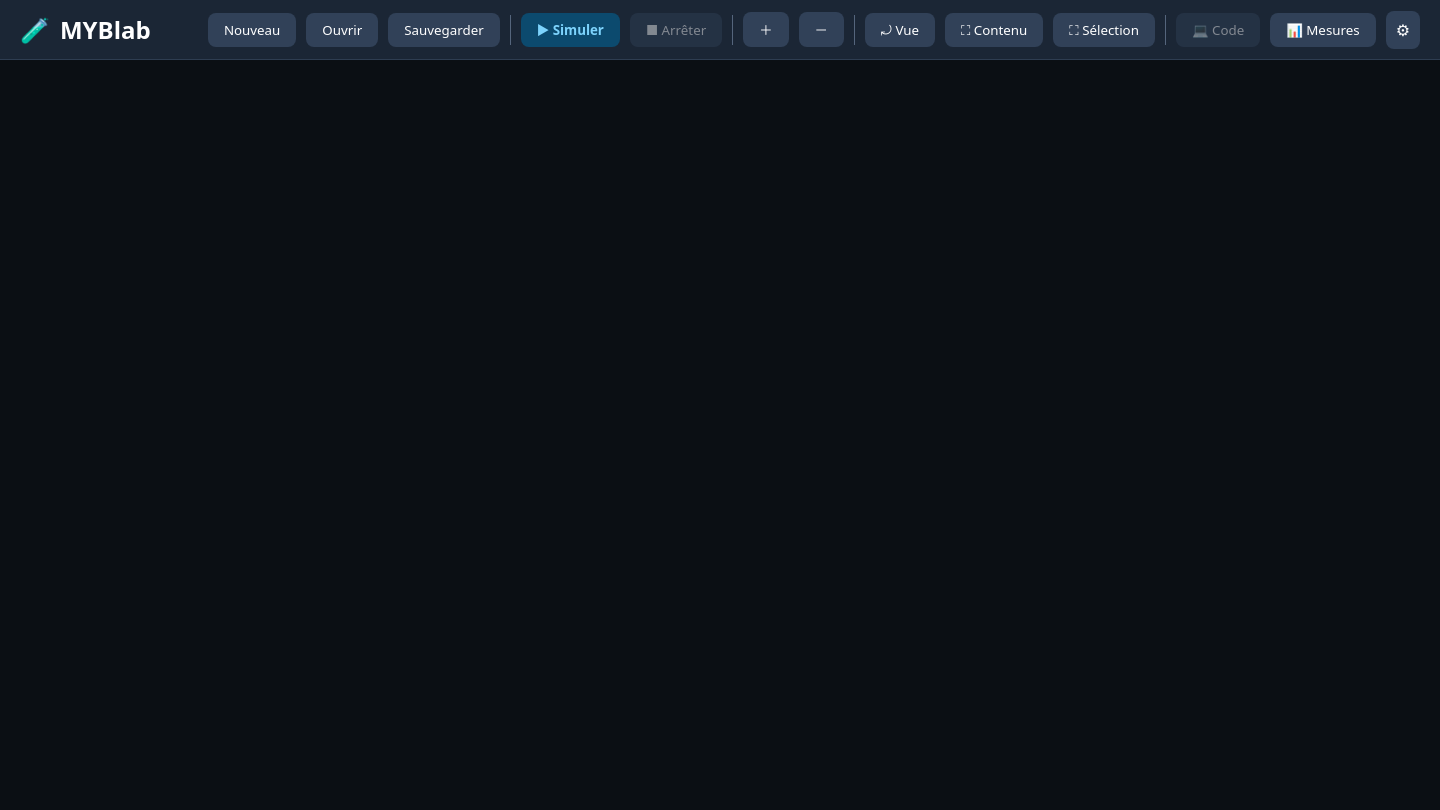
Test: MB-MEASURE-002 — TEST T4/T6 : VOLTAGE VALID (AC-07) › mesurer VOLTAGE sur RESISTOR.A dans un circuit POWER->RESISTOR->GND affiche value + V + VALID
Click the button titled "Mesures".
click(1323, 30)  # box [1270,12,1376,46]
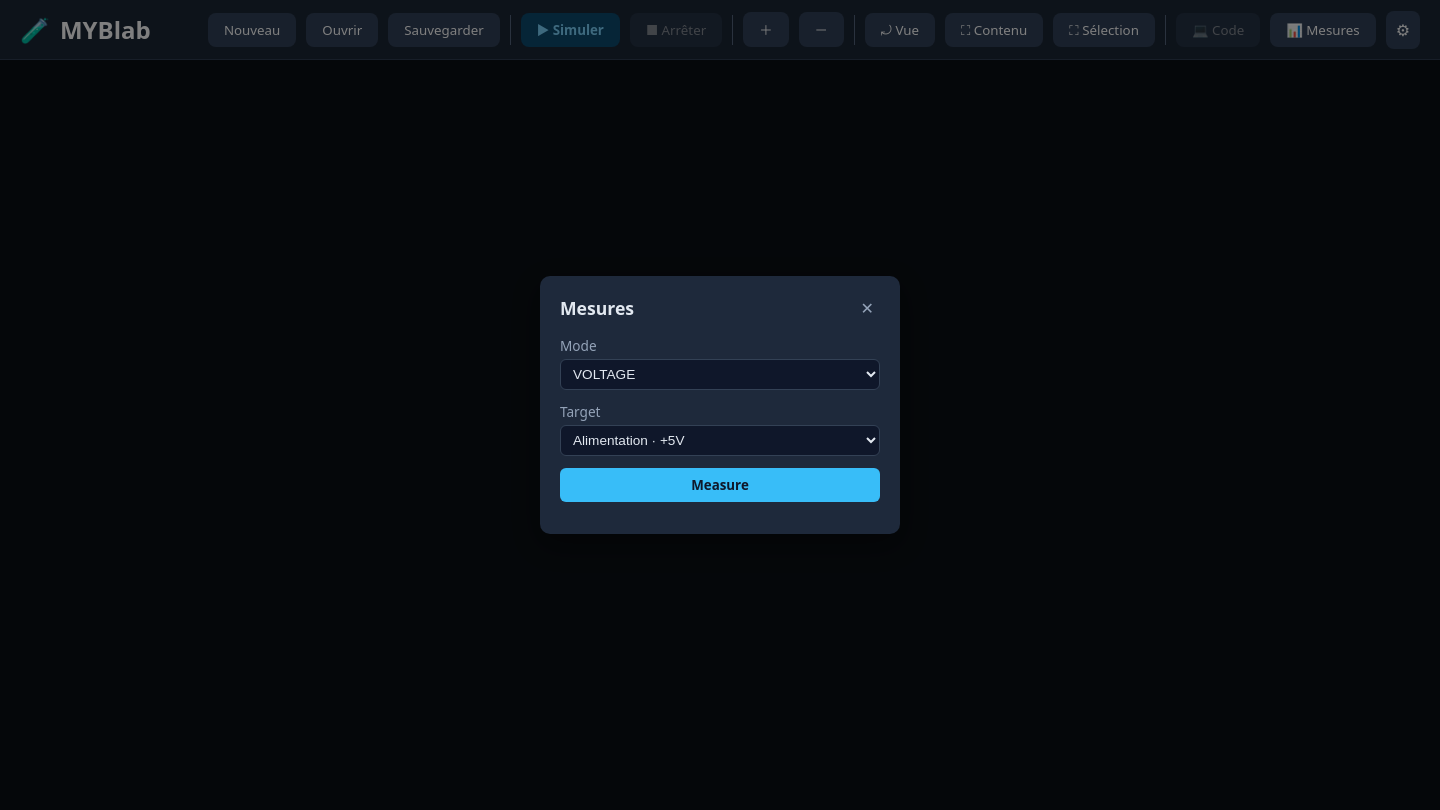
Select "VOLTAGE" in the dropdown labelled "Mode" at {"x": 720, "y": 374}, box [560,359,880,390]
Select "Résistance · A" in the dropdown labelled "Target" at {"x": 720, "y": 440}, box [560,425,880,456]
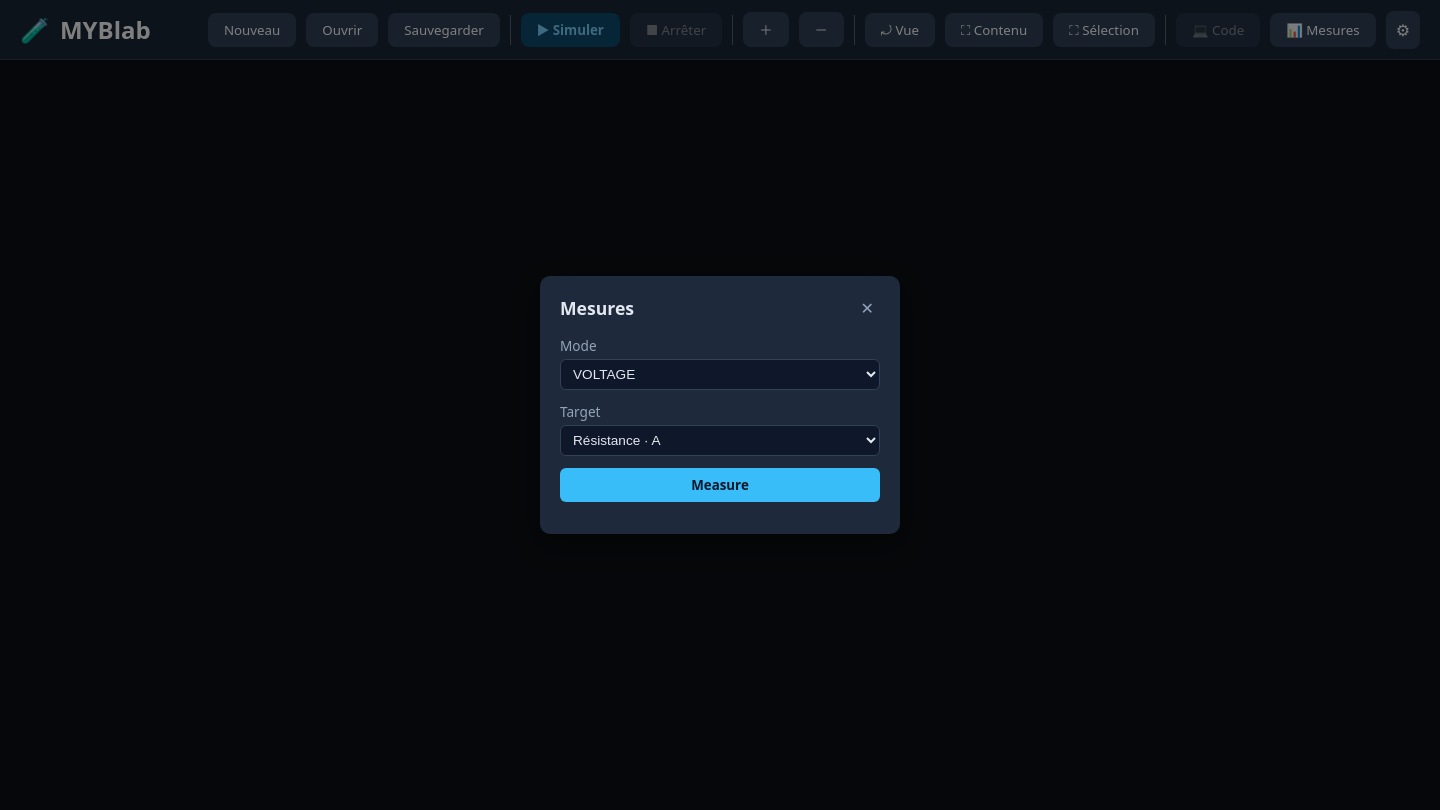
Click the button "Measure".
click(720, 485)  # box [560,468,880,502]
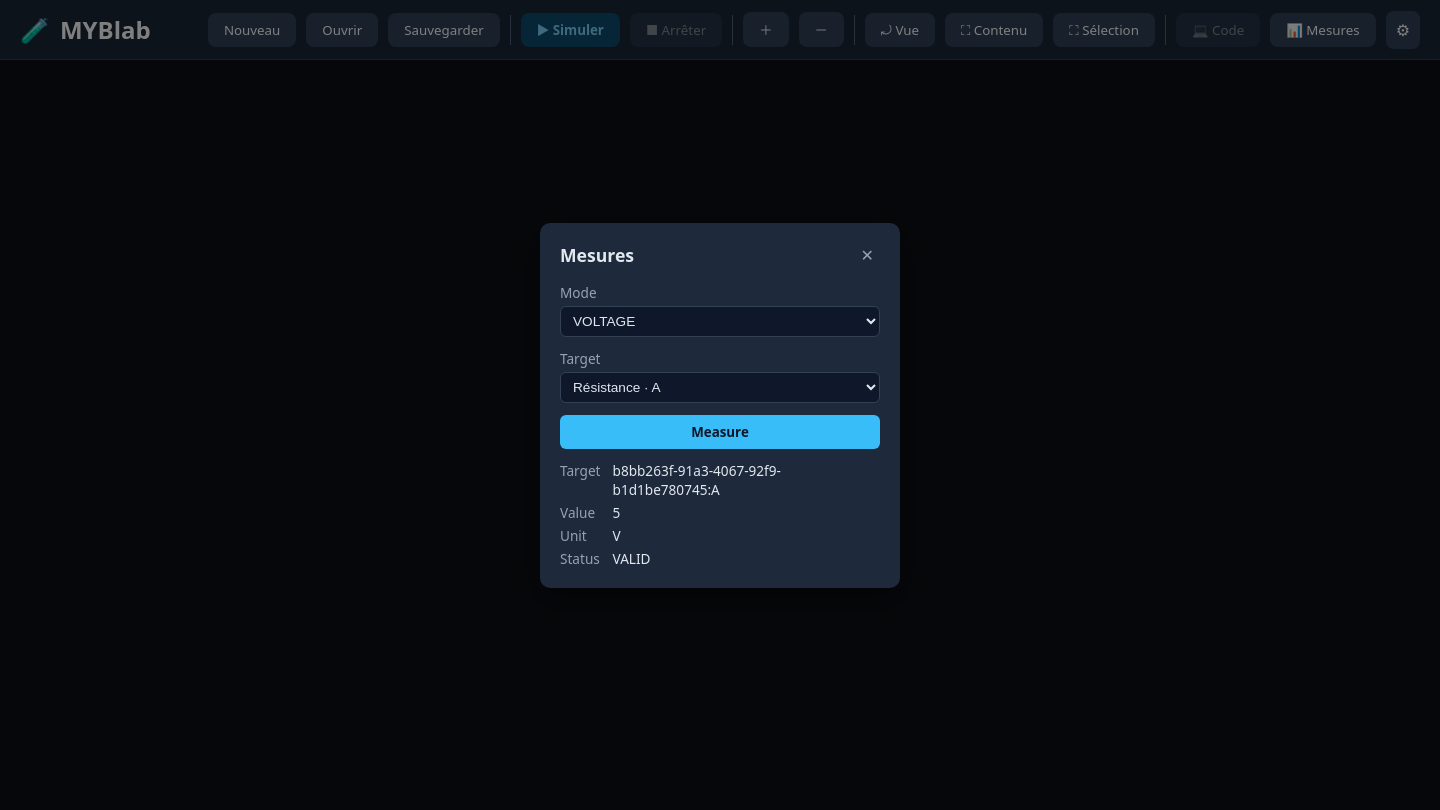
Check: the element named "measurement-result" shows "5", box [612,502,620,522]
Check: the element named "measurement-result" shows "V", box [612,526,621,544]
Check: the element named "measurement-result" shows "VALID", box [612,548,650,568]
